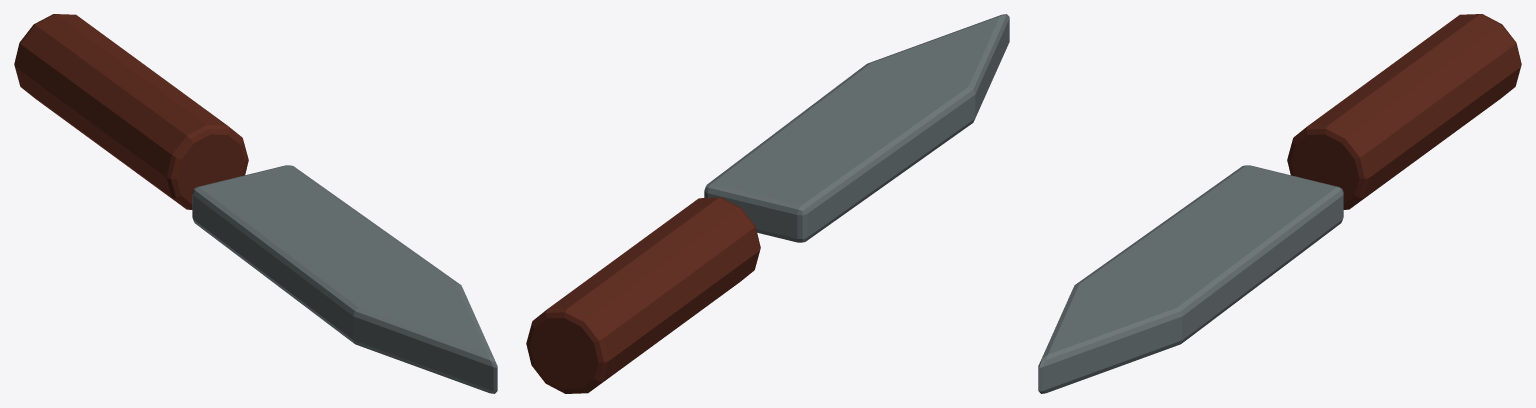
The model's file is short_blade_LOD1.glb.
3 views of the same model, side by side, from view 1: azimuth 30°, elevation 25°; view 2: azimuth 150°, elevation 25°; view 3: azimuth 330°, elevation 25° (orthographic).
Parts seen in each view (by area): view 1: LOD1_ShortBlade, LOD1_Grip; view 2: LOD1_ShortBlade, LOD1_Grip; view 3: LOD1_ShortBlade, LOD1_Grip.
Boxes of the visible parts, bbox=[...] form: LOD1_ShortBlade: bbox=[192, 165, 497, 393]; LOD1_Grip: bbox=[14, 14, 248, 209]; LOD1_ShortBlade: bbox=[704, 14, 1009, 242]; LOD1_Grip: bbox=[526, 197, 760, 393]; LOD1_ShortBlade: bbox=[1038, 165, 1343, 393]; LOD1_Grip: bbox=[1287, 14, 1521, 209].
Bounding box in the file's own units: 0.14 × 0.104 × 0.9806.
